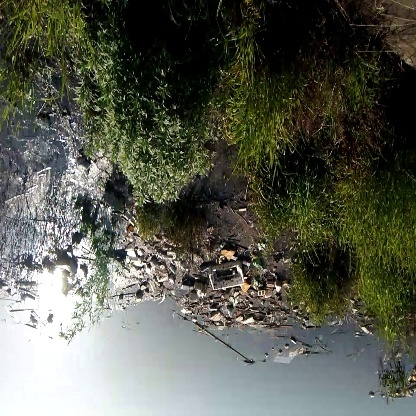branch: (194, 319, 255, 367)
plastic-garbage: (207, 259, 249, 297)
